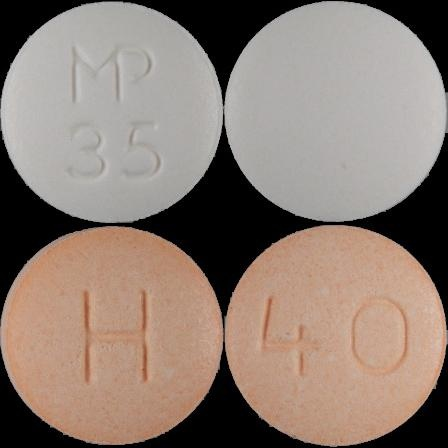50090-0136: (0, 0, 224, 224)
